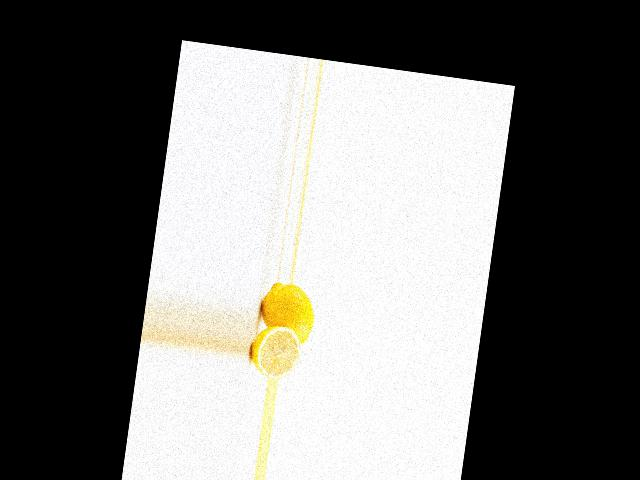lemon: (253, 281, 319, 347)
